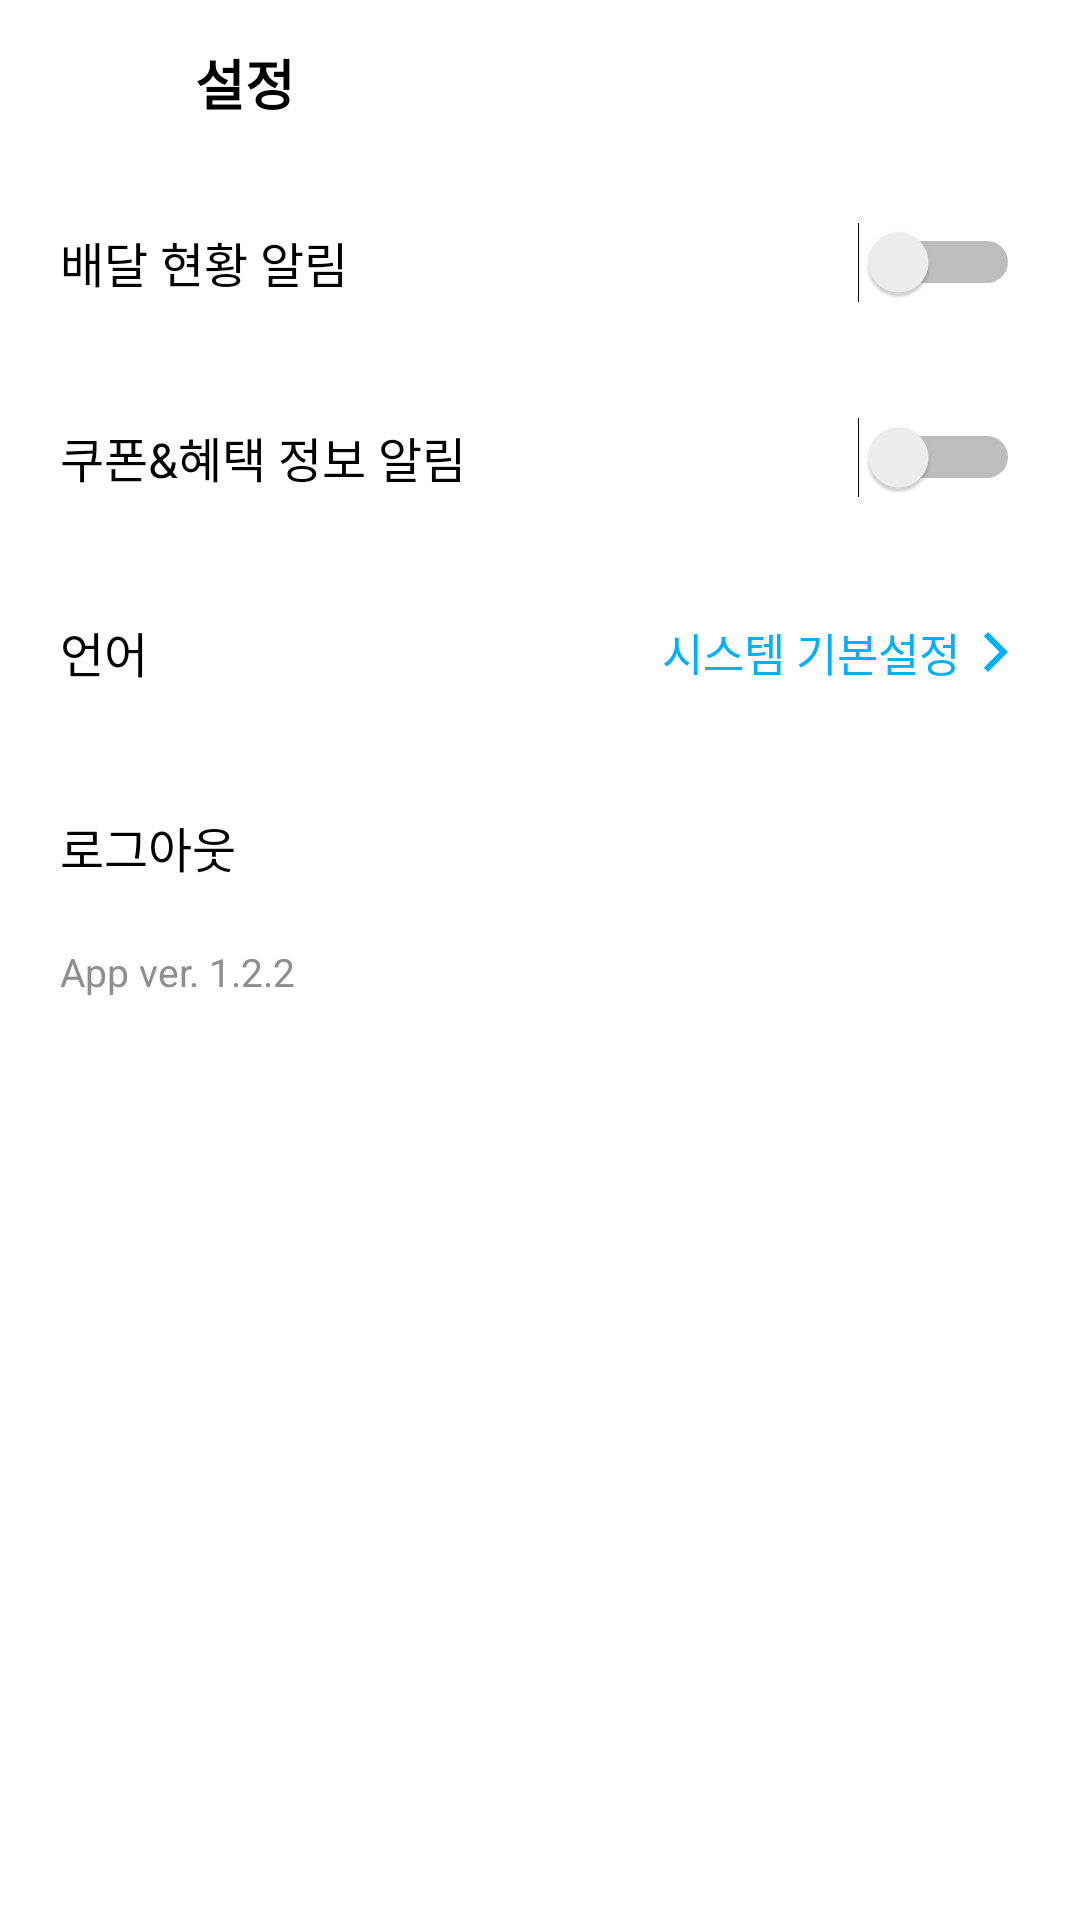

Where to tap for icons on this 1080px×1920px app screen, as (x=x, y=y):
arrow forward: (x=996, y=652)
